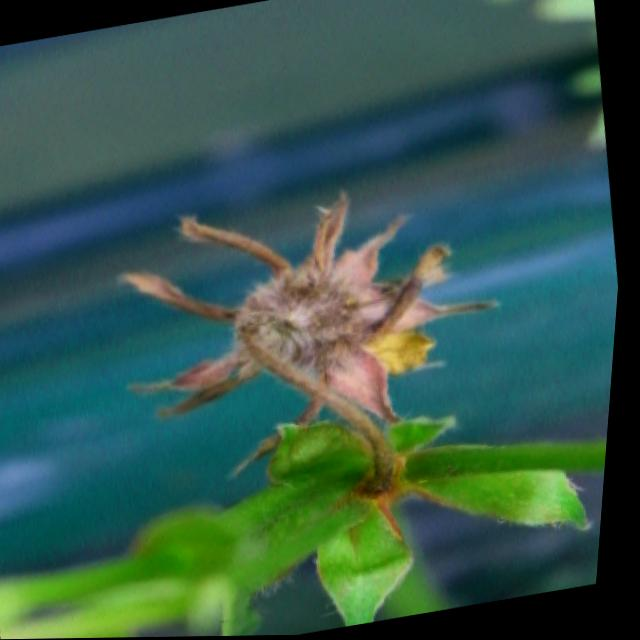Gray Mold: (121, 194, 505, 497)
